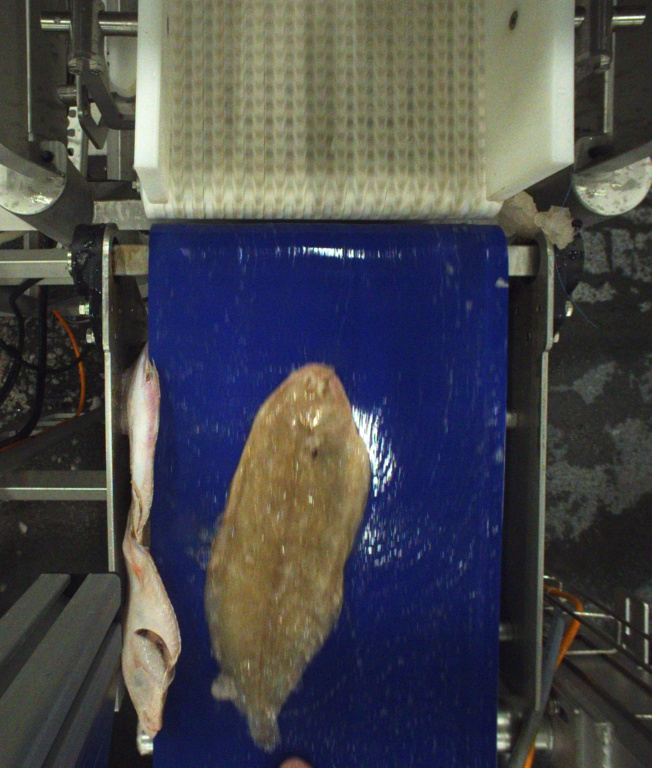BIB: (205, 362, 376, 750)
